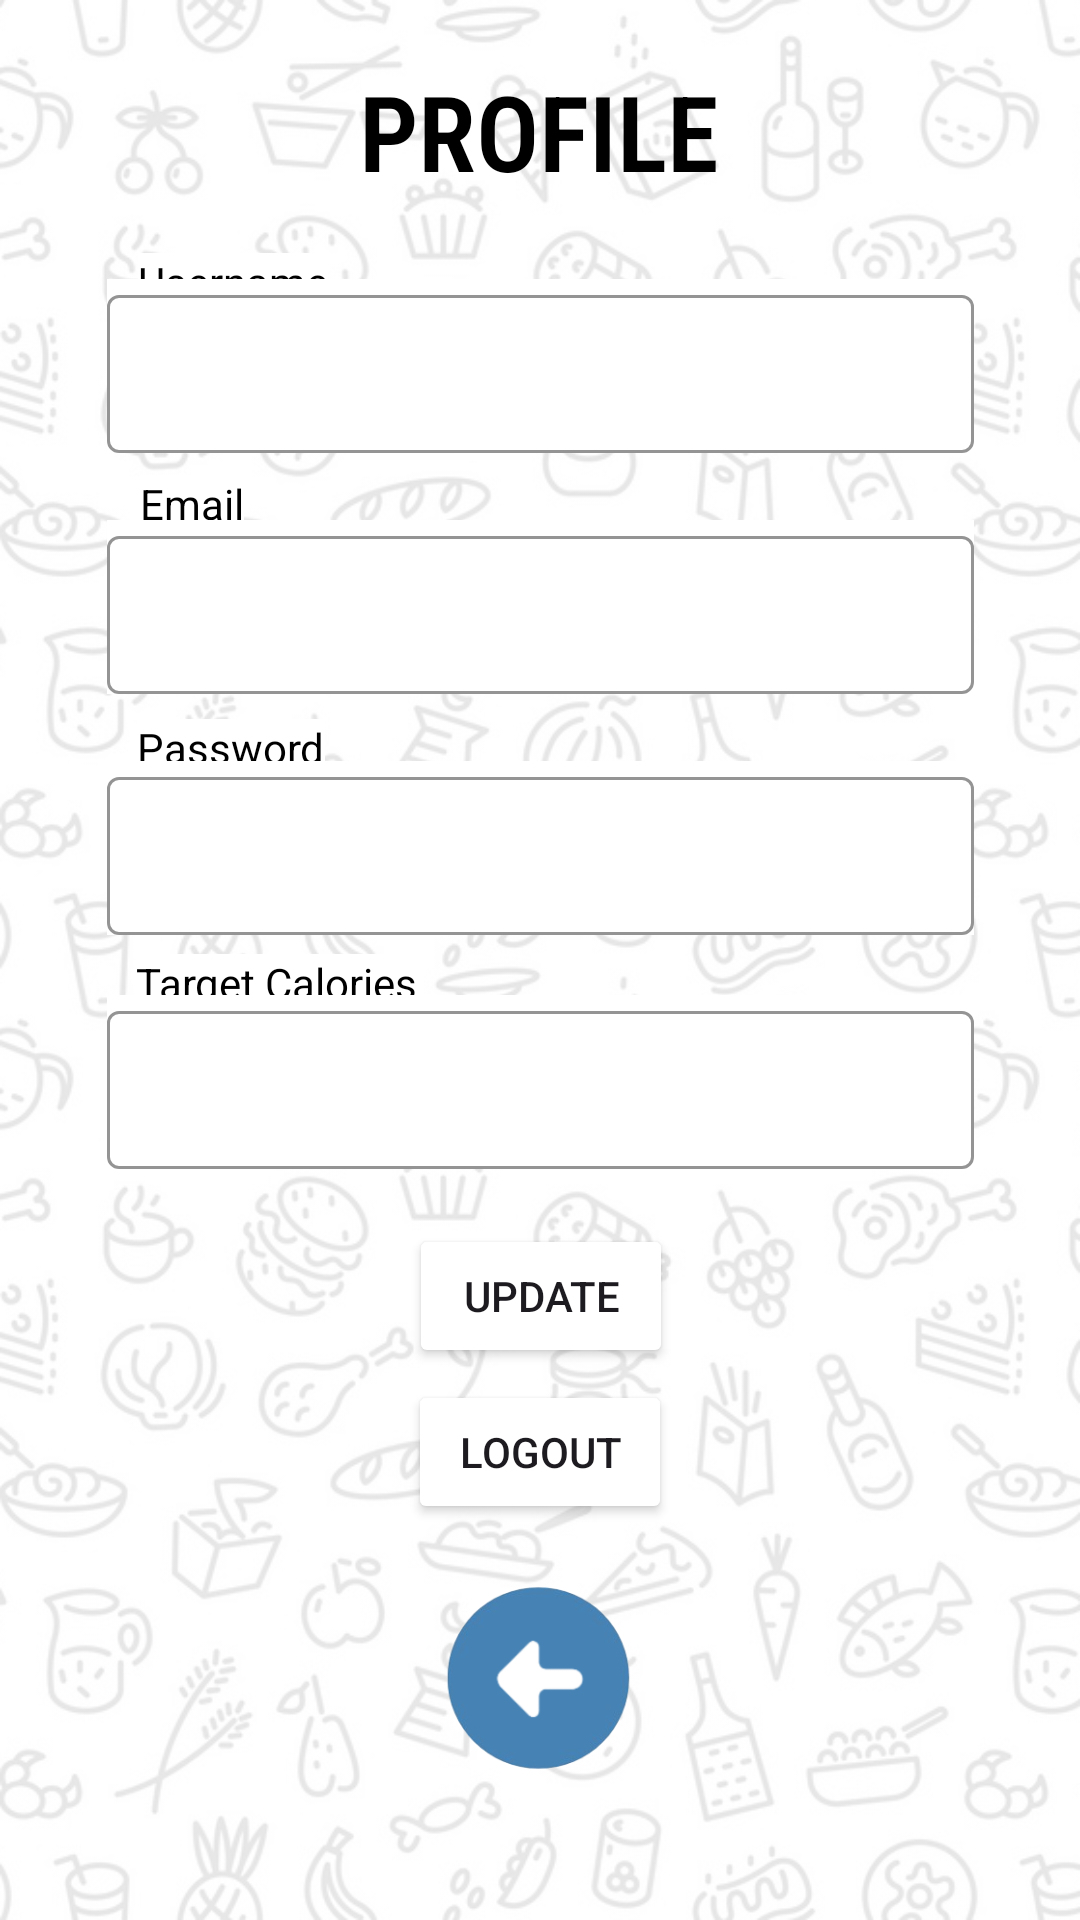

Icons on this 1080w x 1920h Android screen, each with its box as BBox(x1, y1, x2, y2):
backbutton: BBox(442, 1579, 634, 1777)
